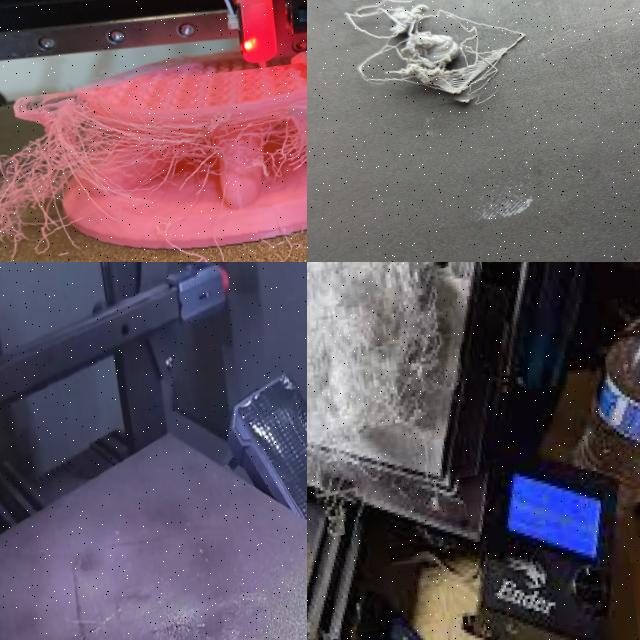spaghetti: (0, 28, 307, 262), (307, 0, 640, 129), (307, 262, 474, 483)
